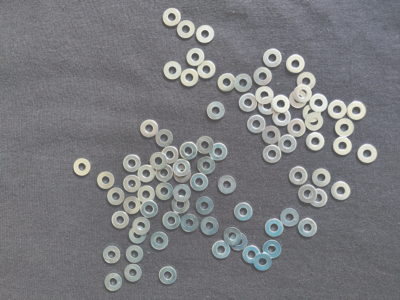circle: (297, 219, 320, 240), (357, 144, 380, 164), (335, 118, 356, 139), (311, 167, 333, 187), (104, 272, 125, 292), (201, 216, 221, 237), (217, 175, 238, 195), (280, 208, 301, 228), (206, 101, 226, 122), (150, 232, 170, 252), (255, 85, 275, 105), (262, 48, 282, 68), (196, 25, 216, 45), (162, 7, 182, 27), (158, 267, 179, 286), (156, 181, 175, 202), (154, 129, 175, 148), (233, 203, 254, 222), (297, 185, 318, 204), (332, 181, 351, 202), (333, 137, 354, 156), (128, 227, 148, 246), (180, 214, 199, 234), (107, 188, 126, 208), (72, 158, 91, 178), (211, 241, 231, 260), (263, 240, 282, 260), (288, 167, 308, 186), (246, 116, 266, 135), (273, 108, 293, 127), (258, 97, 278, 116), (238, 94, 258, 113), (310, 93, 329, 113), (253, 67, 273, 86), (234, 74, 254, 93), (180, 69, 199, 89), (163, 62, 183, 81), (176, 20, 195, 40), (243, 245, 261, 266), (185, 49, 206, 67), (124, 265, 143, 284), (123, 196, 142, 215), (172, 196, 191, 215), (196, 196, 215, 215), (190, 173, 209, 192), (179, 142, 198, 161), (198, 156, 217, 175), (224, 227, 243, 246), (254, 254, 273, 273), (265, 219, 284, 238), (263, 145, 282, 164), (306, 133, 325, 152), (263, 126, 282, 145), (348, 102, 367, 121), (218, 73, 237, 92), (97, 171, 115, 191), (174, 166, 194, 184), (196, 135, 214, 155), (288, 118, 306, 138), (305, 113, 325, 131), (297, 72, 317, 90), (287, 54, 305, 74), (197, 61, 217, 79), (302, 106, 323, 123), (111, 212, 130, 230), (162, 212, 180, 231), (173, 184, 192, 202), (137, 165, 156, 183), (155, 164, 174, 182), (141, 120, 159, 139), (230, 234, 249, 252), (279, 136, 298, 154), (328, 101, 347, 119), (125, 247, 145, 264), (291, 89, 308, 109), (103, 246, 121, 264), (123, 155, 141, 173), (173, 159, 191, 177), (310, 191, 328, 209), (273, 94, 291, 112), (294, 85, 313, 102), (140, 202, 160, 218), (133, 218, 151, 235), (123, 176, 141, 193), (150, 153, 168, 170), (211, 144, 229, 161), (162, 147, 179, 164), (138, 186, 154, 204)
